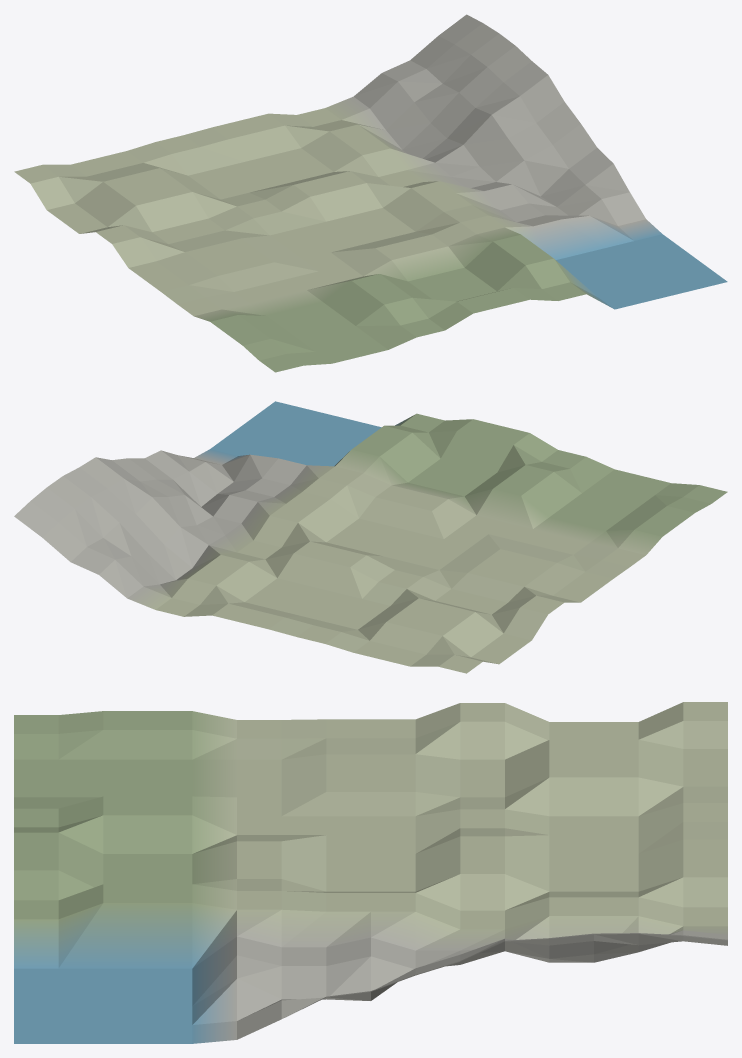
The picture shows the model from 3 angles, top to bottom: view 1: azimuth 30°, elevation 25°; view 2: azimuth 150°, elevation 25°; view 3: azimuth 270°, elevation 25°; orthographic projection. The views are drawn at different scales.
Size of the model in its own units: 32 by 5.48 by 32.
